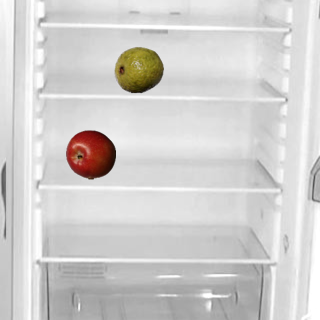Apple Braeburn: (65, 129, 115, 179)
Guava: (113, 44, 163, 94)
